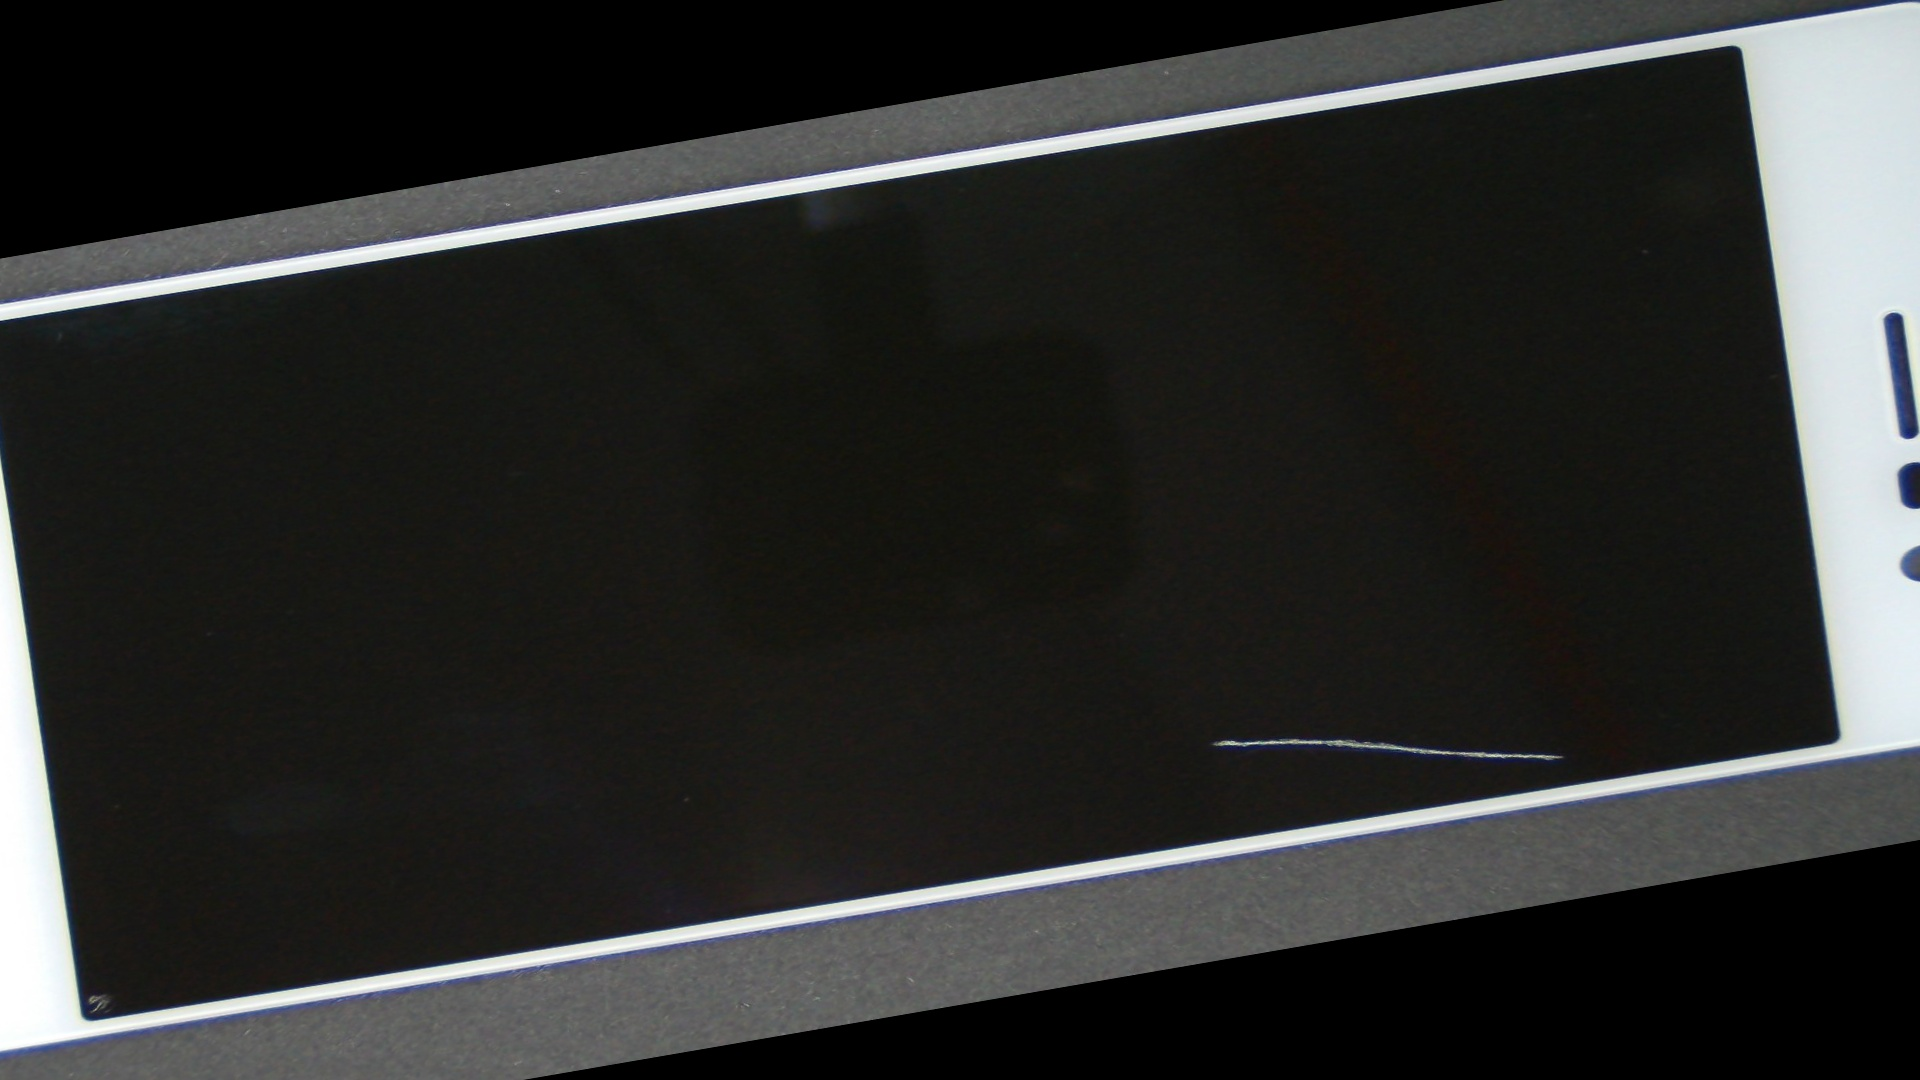oil: (464, 285, 1920, 1073), (0, 605, 252, 1080)
